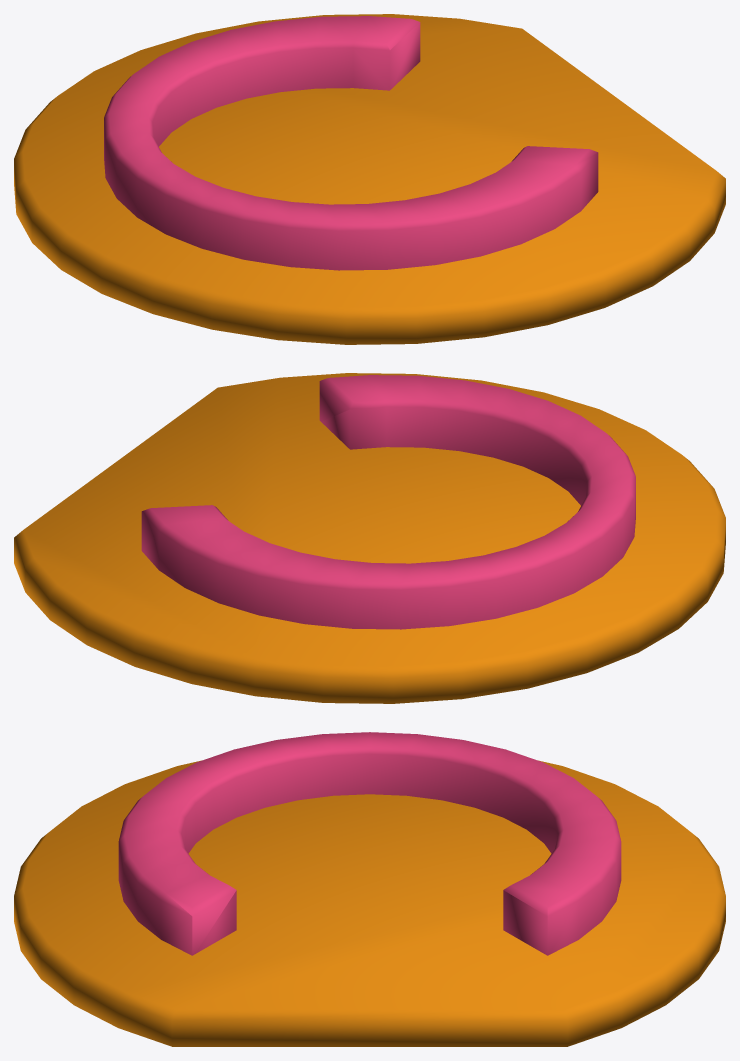
File: finish platforom.fbx
The picture shows the model from 3 angles, top to bottom: view 1: azimuth 30°, elevation 25°; view 2: azimuth 150°, elevation 25°; view 3: azimuth 270°, elevation 25°; orthographic projection.
Parts seen in each view (by area): view 1: Circle, Circle.001; view 2: Circle, Circle.001; view 3: Circle, Circle.001.
Boxes of the visible parts, box(x1,y1,x2,y2) form: Circle: box(14, 14, 725, 344); Circle.001: box(104, 16, 598, 270); Circle: box(14, 373, 725, 703); Circle.001: box(141, 375, 635, 629); Circle: box(14, 760, 725, 1046); Circle.001: box(118, 732, 621, 955).
Size of the model in its own units: 1027 by 137 by 1122.
